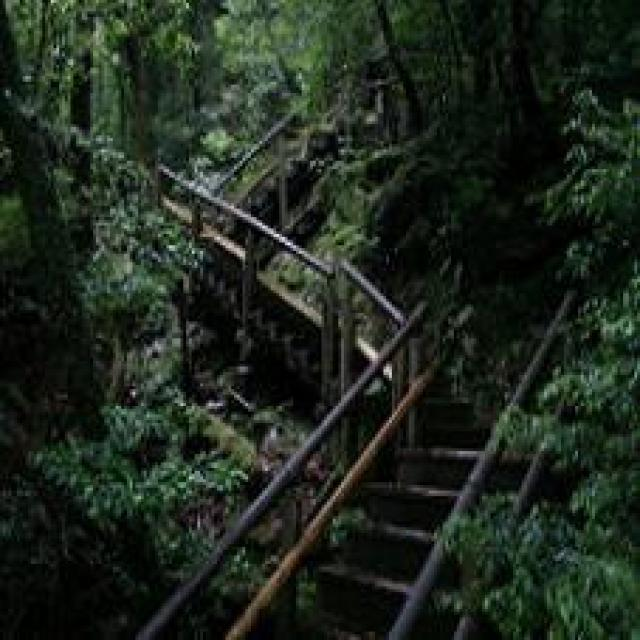upstair: (283, 382, 494, 599)
